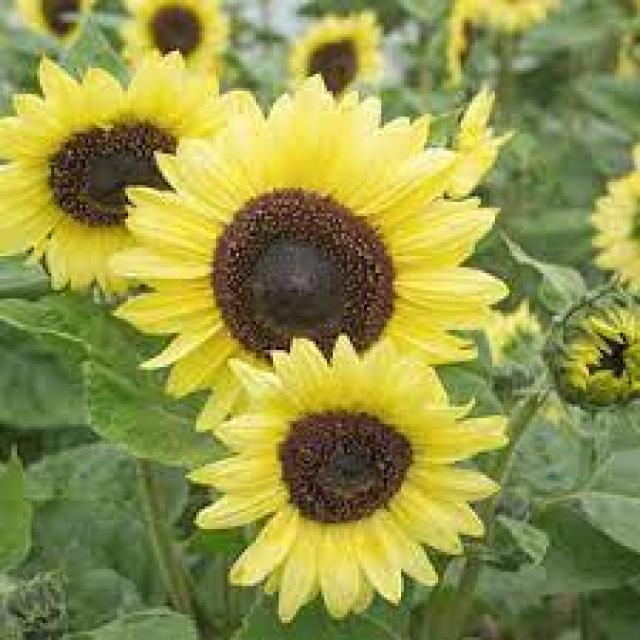sunflower: (104, 65, 530, 442), (178, 328, 520, 632), (1, 46, 265, 309), (286, 8, 394, 104), (117, 2, 237, 86), (583, 131, 640, 301), (10, 0, 104, 51), (435, 0, 489, 88), (611, 35, 640, 78)
